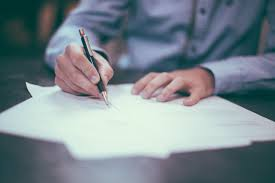hand: (129, 58, 220, 108), (46, 34, 116, 97)
